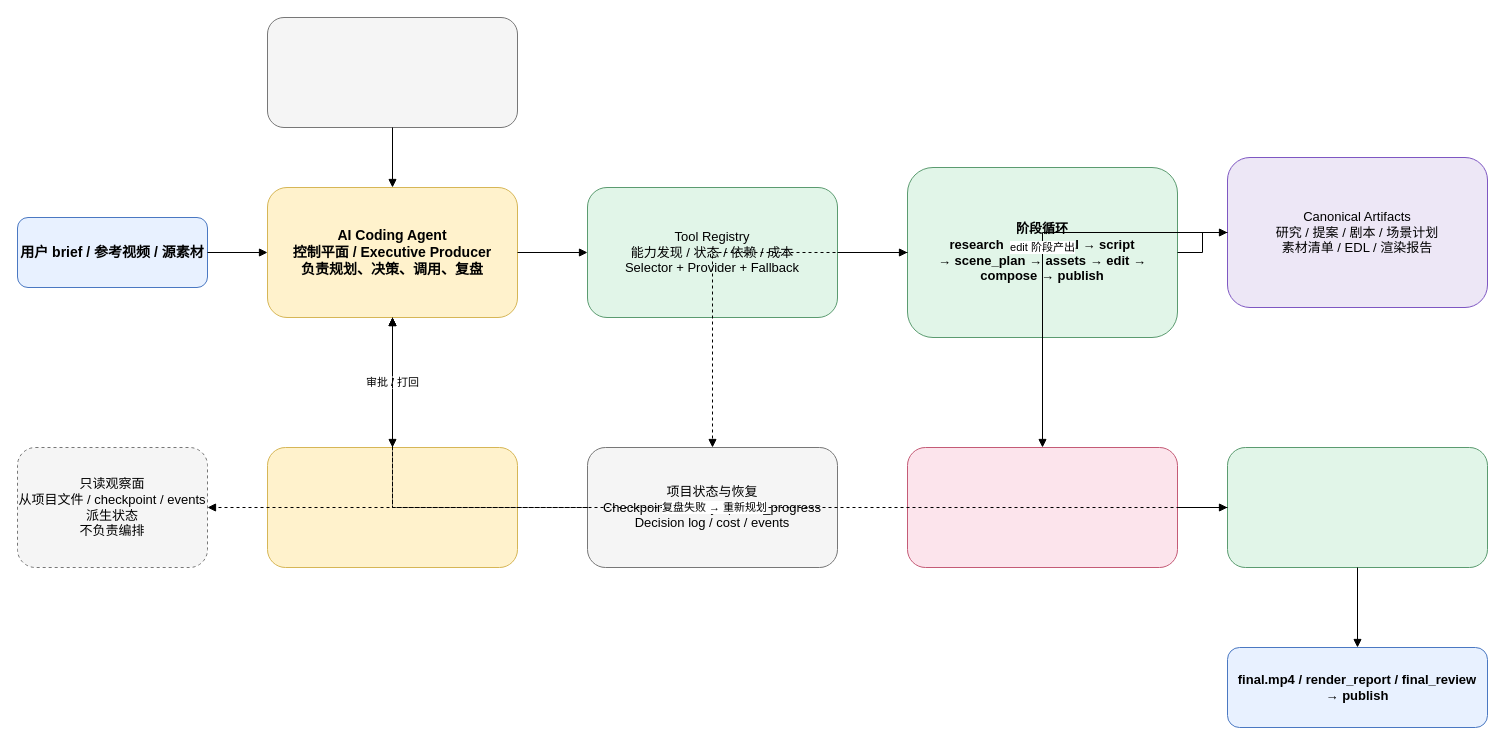
The diagram is 1505 pixels wide and 745 high, and some of its shapes have lost their labels. The centre of each missing label's shape, as x and y in pixels:
"Compose 执行层 FFmpeg / Remotion / HyperFrames 按 render_runtime 路由" goes at point 1357,507.
"人工审批门 awaiting_human → approved → completed 成本、素材、提案、发布" goes at point 392,507.
"剪辑决策 EDL cuts / in-out / speed / layer overlay / audio / subtitles / transitions" goes at point 1042,507.
"声明式指令层 Pipeline 清单 Stage Skill / Meta Skill / Playbook" goes at point 392,72.
